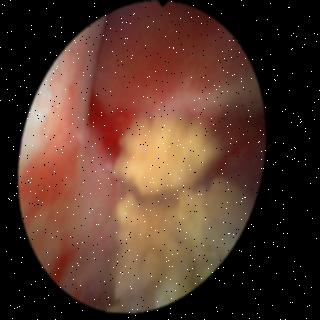stone: (114, 113, 254, 308)
tissue: (25, 5, 262, 301)
